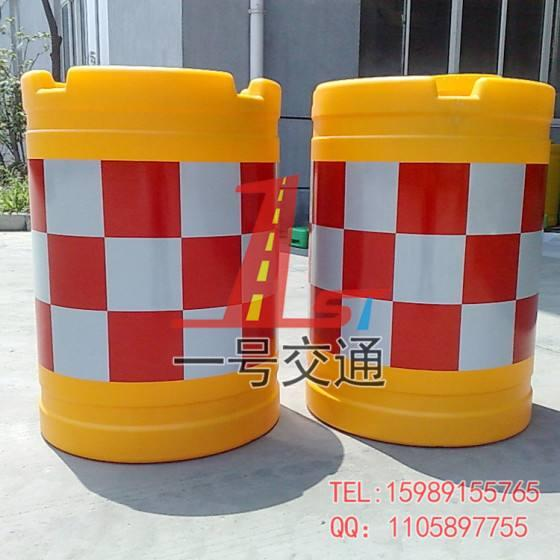sign: (10, 56, 284, 454), (307, 64, 556, 452)
